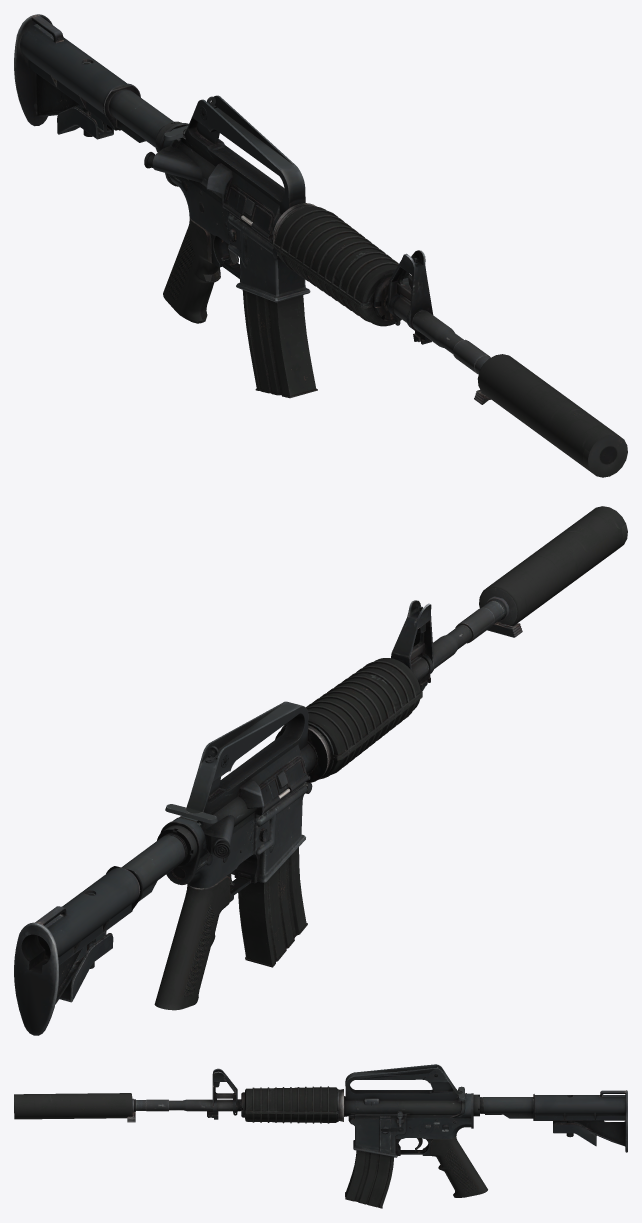
3 renders of one model, top to bottom at view 1: azimuth 30°, elevation 25°; view 2: azimuth 150°, elevation 25°; view 3: azimuth 270°, elevation 25°, orthographic. The views are drawn at different scales.
Parts seen in each view (by area): view 1: weapon002, silencer001; view 2: weapon002, silencer001; view 3: weapon002, silencer001.
Boxes of the visible parts, bbox=[...] form: weapon002: bbox=[14, 14, 490, 398]; silencer001: bbox=[474, 354, 627, 477]; weapon002: bbox=[14, 600, 503, 1035]; silencer001: bbox=[479, 506, 627, 637]; weapon002: bbox=[136, 1064, 627, 1208]; silencer001: bbox=[14, 1093, 135, 1122].
Size of the model in its own units: 3.58 by 11.71 by 47.46.
Materials: 1 (1 with a texture image).
